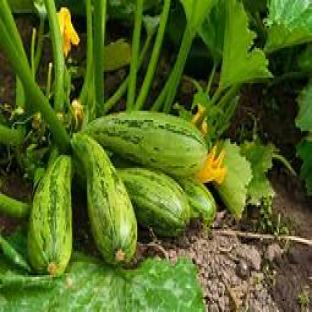Zucchini: (73, 133, 137, 263), (85, 111, 206, 175), (29, 156, 72, 275), (118, 168, 189, 236), (179, 178, 216, 227)
